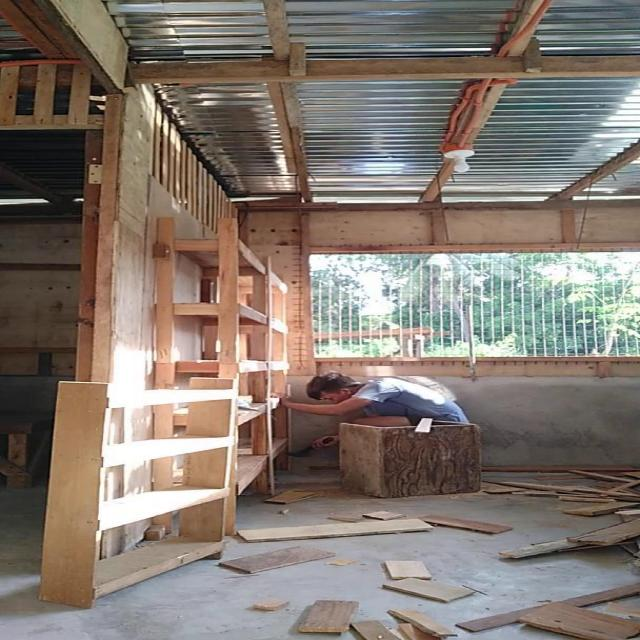hammer: (284, 437, 335, 458)
